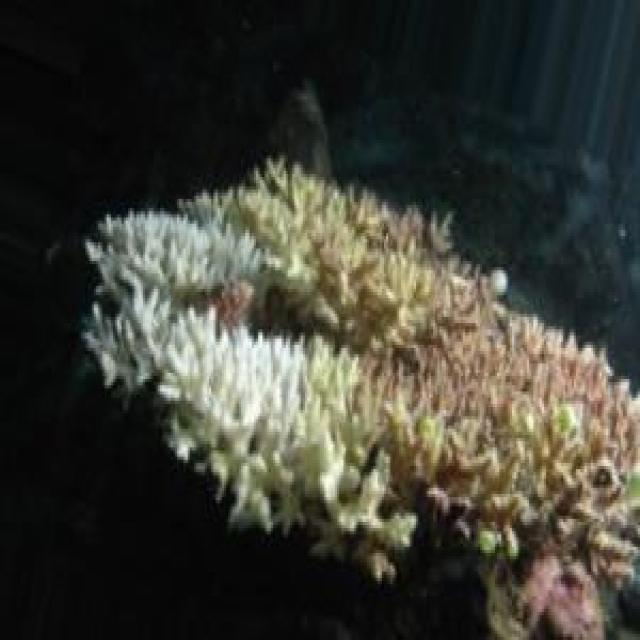bleached coral: (162, 342, 305, 423), (107, 217, 267, 280), (98, 239, 175, 339)
healthy coral: (254, 190, 446, 283), (497, 351, 640, 475), (262, 441, 354, 553), (393, 363, 514, 441), (476, 472, 557, 572), (354, 298, 439, 357), (544, 559, 595, 640)
